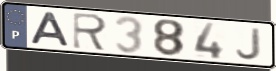3: (114, 14, 146, 56)
4: (192, 21, 227, 61)
8: (151, 17, 188, 58)
A: (29, 10, 72, 48)
J: (234, 26, 263, 61)
R: (71, 11, 109, 53)
